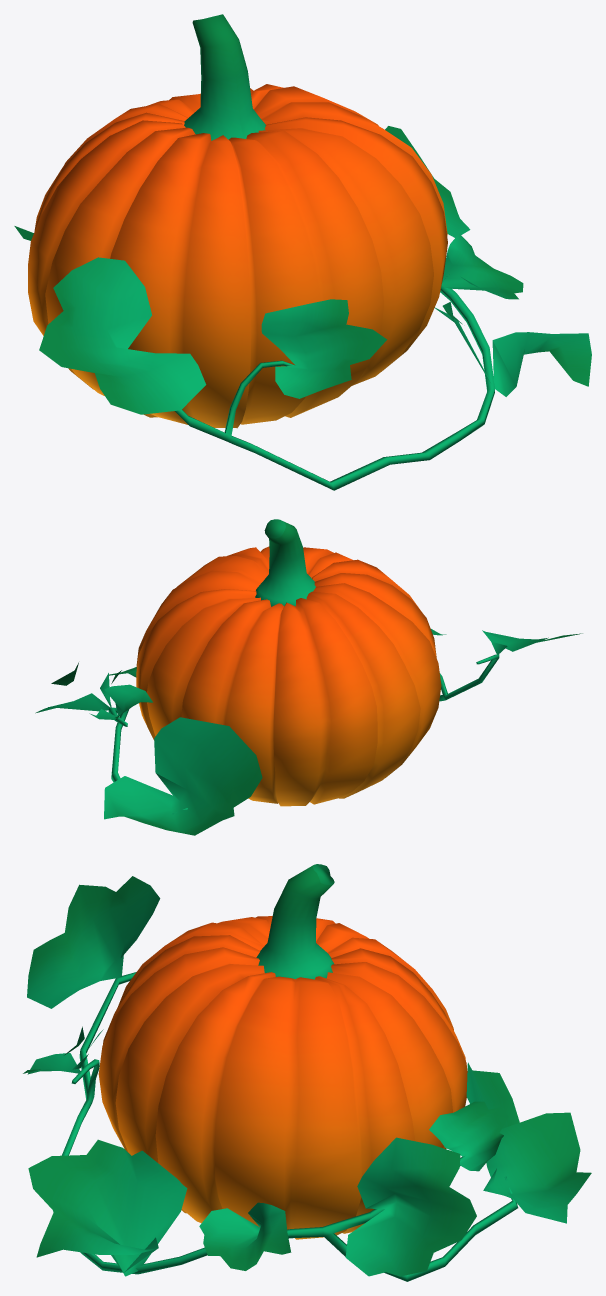
Rendered from pumpkin.glb.
3 views of the same model, one above another, from view 1: azimuth 30°, elevation 25°; view 2: azimuth 150°, elevation 25°; view 3: azimuth 270°, elevation 25° (orthographic). The views are drawn at different scales.
Visible parts, largest first — view 1: Pumpkin_0, Leaf_001_0, Leaf_006_0, Tija_0, Cube_0, Leaf_003_0, Leaf_005_0, Leaf_0; view 2: Pumpkin_0, Leaf_002_0, Tija_0, Cube_0, Leaf_004_0, Leaf_0, Leaf_001_0; view 3: Pumpkin_0, Leaf_003_0, Leaf_0, Leaf_001_0, Leaf_002_0, Tija_0, Cube_0, Leaf_005_0, Leaf_004_0, Leaf_006_0.
Part boxes in pixels (bbox=[...]): Pumpkin_0: bbox=[28, 84, 447, 428]; Leaf_001_0: bbox=[39, 257, 206, 414]; Leaf_006_0: bbox=[261, 299, 387, 398]; Tija_0: bbox=[184, 14, 265, 140]; Cube_0: bbox=[175, 286, 494, 490]; Leaf_003_0: bbox=[434, 302, 591, 396]; Leaf_005_0: bbox=[441, 233, 523, 299]; Leaf_0: bbox=[385, 126, 470, 237]; Pumpkin_0: bbox=[136, 546, 441, 806]; Leaf_002_0: bbox=[104, 717, 262, 835]; Tija_0: bbox=[255, 519, 315, 606]; Cube_0: bbox=[108, 654, 499, 814]; Leaf_004_0: bbox=[89, 684, 152, 719]; Leaf_0: bbox=[35, 662, 111, 713]; Leaf_001_0: bbox=[482, 630, 582, 654]; Pumpkin_0: bbox=[98, 916, 467, 1239]; Leaf_003_0: bbox=[28, 1139, 187, 1276]; Leaf_0: bbox=[345, 1137, 476, 1276]; Leaf_001_0: bbox=[27, 876, 160, 1008]; Leaf_002_0: bbox=[466, 1062, 591, 1223]; Tija_0: bbox=[256, 864, 334, 979]; Cube_0: bbox=[53, 972, 518, 1281]; Leaf_005_0: bbox=[199, 1202, 291, 1270]; Leaf_004_0: bbox=[429, 1101, 508, 1171]; Leaf_006_0: bbox=[23, 1026, 103, 1074].
Bounding box in the file's own units: 3.47 × 2.02 × 3.14.
10 materials, 10 textured.
